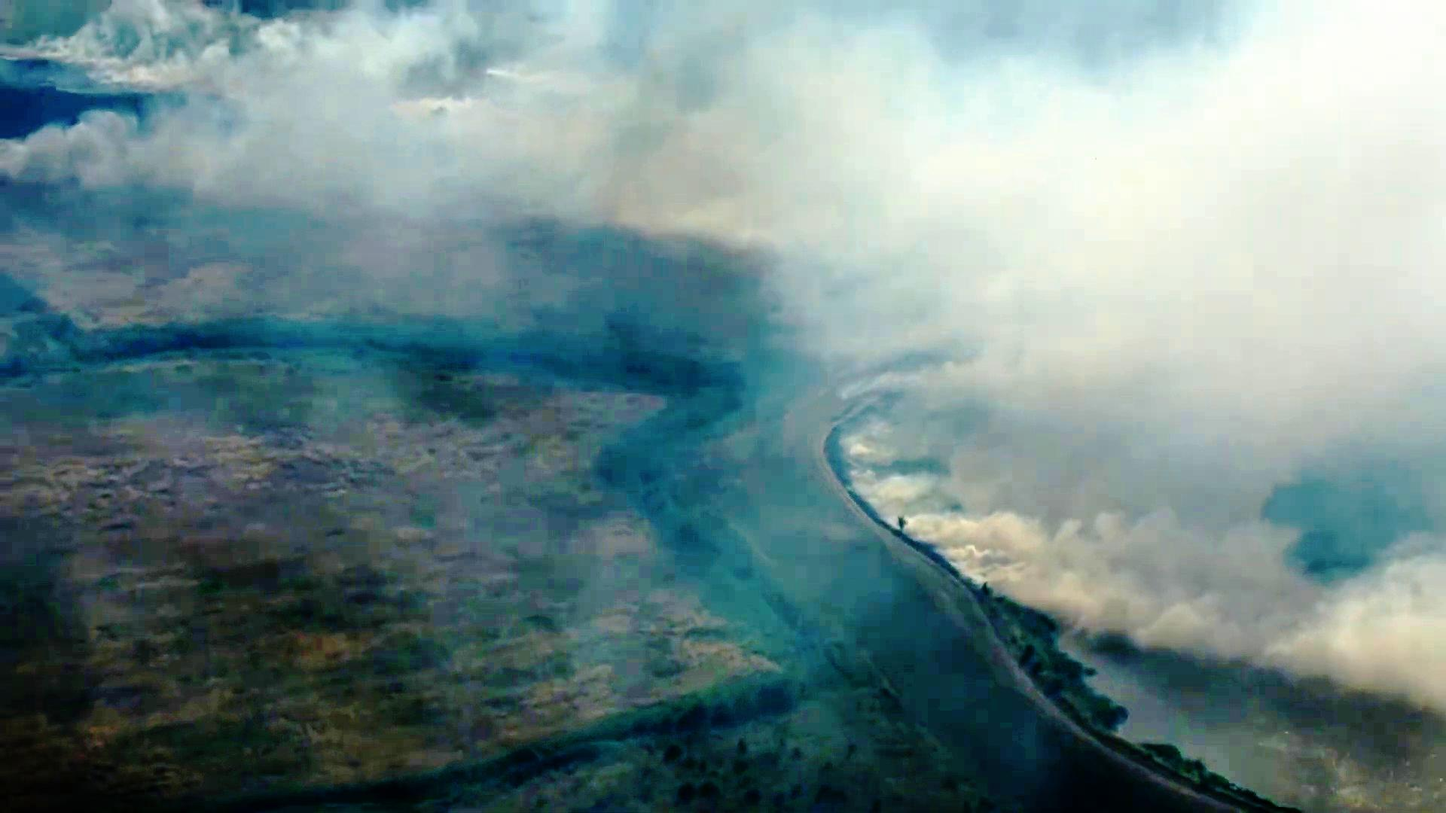smoke: (1109, 512, 1319, 648)
